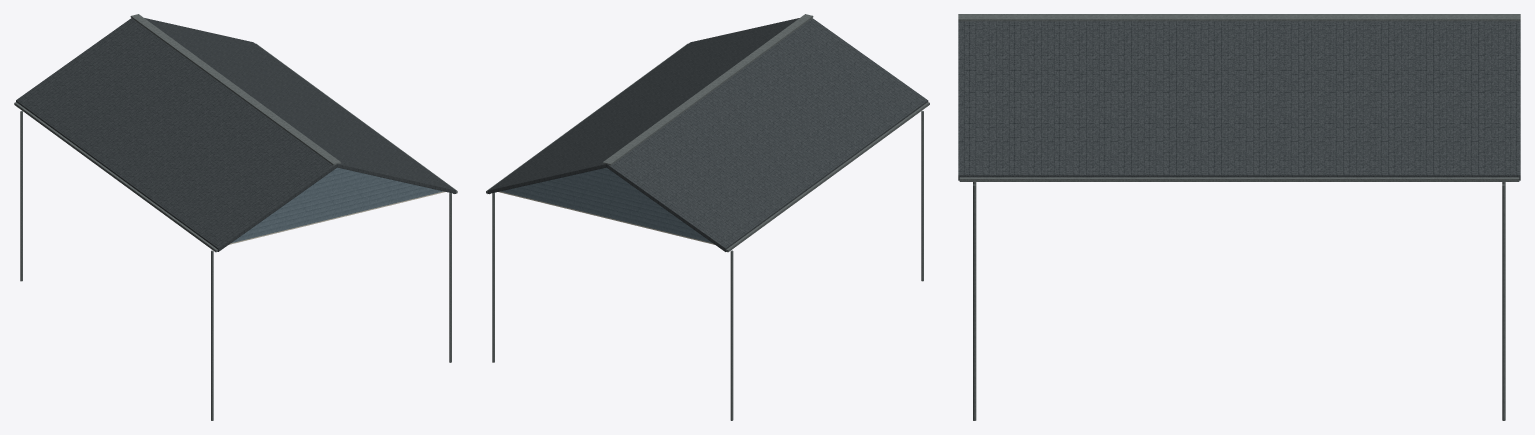
The model's file is PZ_House_Removable_Roof.glb.
3 renders of one model, left to right at view 1: azimuth 30°, elevation 25°; view 2: azimuth 150°, elevation 25°; view 3: azimuth 270°, elevation 25°, orthographic. The views are drawn at different scales.
Parts seen in each view (by area): view 1: 2286_ROOF_LEFT_Detachable_Pitch, 2287_ROOF_RIGHT_Detachable_Pitch, 2288_FrontGable_PlasterTriangle, 2290_Ridge_WeatherCap, 2291_Roof_Aluminum_Gutter_-4.24, 2293_Roof_Downspout_-4.24_11.87, 2292_Roof_Downspout_-4.24_0.12, 2295_Roof_Downspout_4.24_0.12; view 2: 2286_ROOF_LEFT_Detachable_Pitch, 2287_ROOF_RIGHT_Detachable_Pitch, 2289_RearGable_PlasterTriangle, 2290_Ridge_WeatherCap, 2291_Roof_Aluminum_Gutter_-4.24, 2293_Roof_Downspout_-4.24_11.87, 2292_Roof_Downspout_-4.24_0.12, 2296_Roof_Downspout_4.24_11.87; view 3: 2287_ROOF_RIGHT_Detachable_Pitch, 2290_Ridge_WeatherCap, 2294_Roof_Aluminum_Gutter_+4.24, 2296_Roof_Downspout_4.24_11.87, 2295_Roof_Downspout_4.24_0.12.
Boxes of the visible parts, box(x1,y1,x2,y2) form: 2286_ROOF_LEFT_Detachable_Pitch: box(16, 18, 337, 251); 2287_ROOF_RIGHT_Detachable_Pitch: box(144, 18, 455, 193); 2288_FrontGable_PlasterTriangle: box(231, 167, 443, 243); 2290_Ridge_WeatherCap: box(130, 14, 341, 165); 2291_Roof_Aluminum_Gutter_-4.24: box(14, 102, 217, 252); 2293_Roof_Downspout_-4.24_11.87: box(20, 111, 22, 281); 2292_Roof_Downspout_-4.24_0.12: box(211, 250, 213, 420); 2295_Roof_Downspout_4.24_0.12: box(449, 192, 451, 362); 2286_ROOF_LEFT_Detachable_Pitch: box(606, 18, 928, 251); 2287_ROOF_RIGHT_Detachable_Pitch: box(487, 18, 799, 193); 2289_RearGable_PlasterTriangle: box(500, 167, 712, 243); 2290_Ridge_WeatherCap: box(602, 14, 813, 165); 2291_Roof_Aluminum_Gutter_-4.24: box(726, 102, 929, 252); 2293_Roof_Downspout_-4.24_11.87: box(730, 250, 733, 420); 2292_Roof_Downspout_-4.24_0.12: box(921, 111, 923, 281); 2296_Roof_Downspout_4.24_11.87: box(492, 192, 494, 362); 2287_ROOF_RIGHT_Detachable_Pitch: box(958, 21, 1520, 180); 2290_Ridge_WeatherCap: box(958, 14, 1520, 21); 2294_Roof_Aluminum_Gutter_+4.24: box(959, 177, 1519, 181); 2296_Roof_Downspout_4.24_11.87: box(1502, 184, 1505, 420); 2295_Roof_Downspout_4.24_0.12: box(973, 184, 976, 420).
Bounding box in the file's own units: 8.61 × 7.91 × 12.48.
4 materials, 4 textured.
